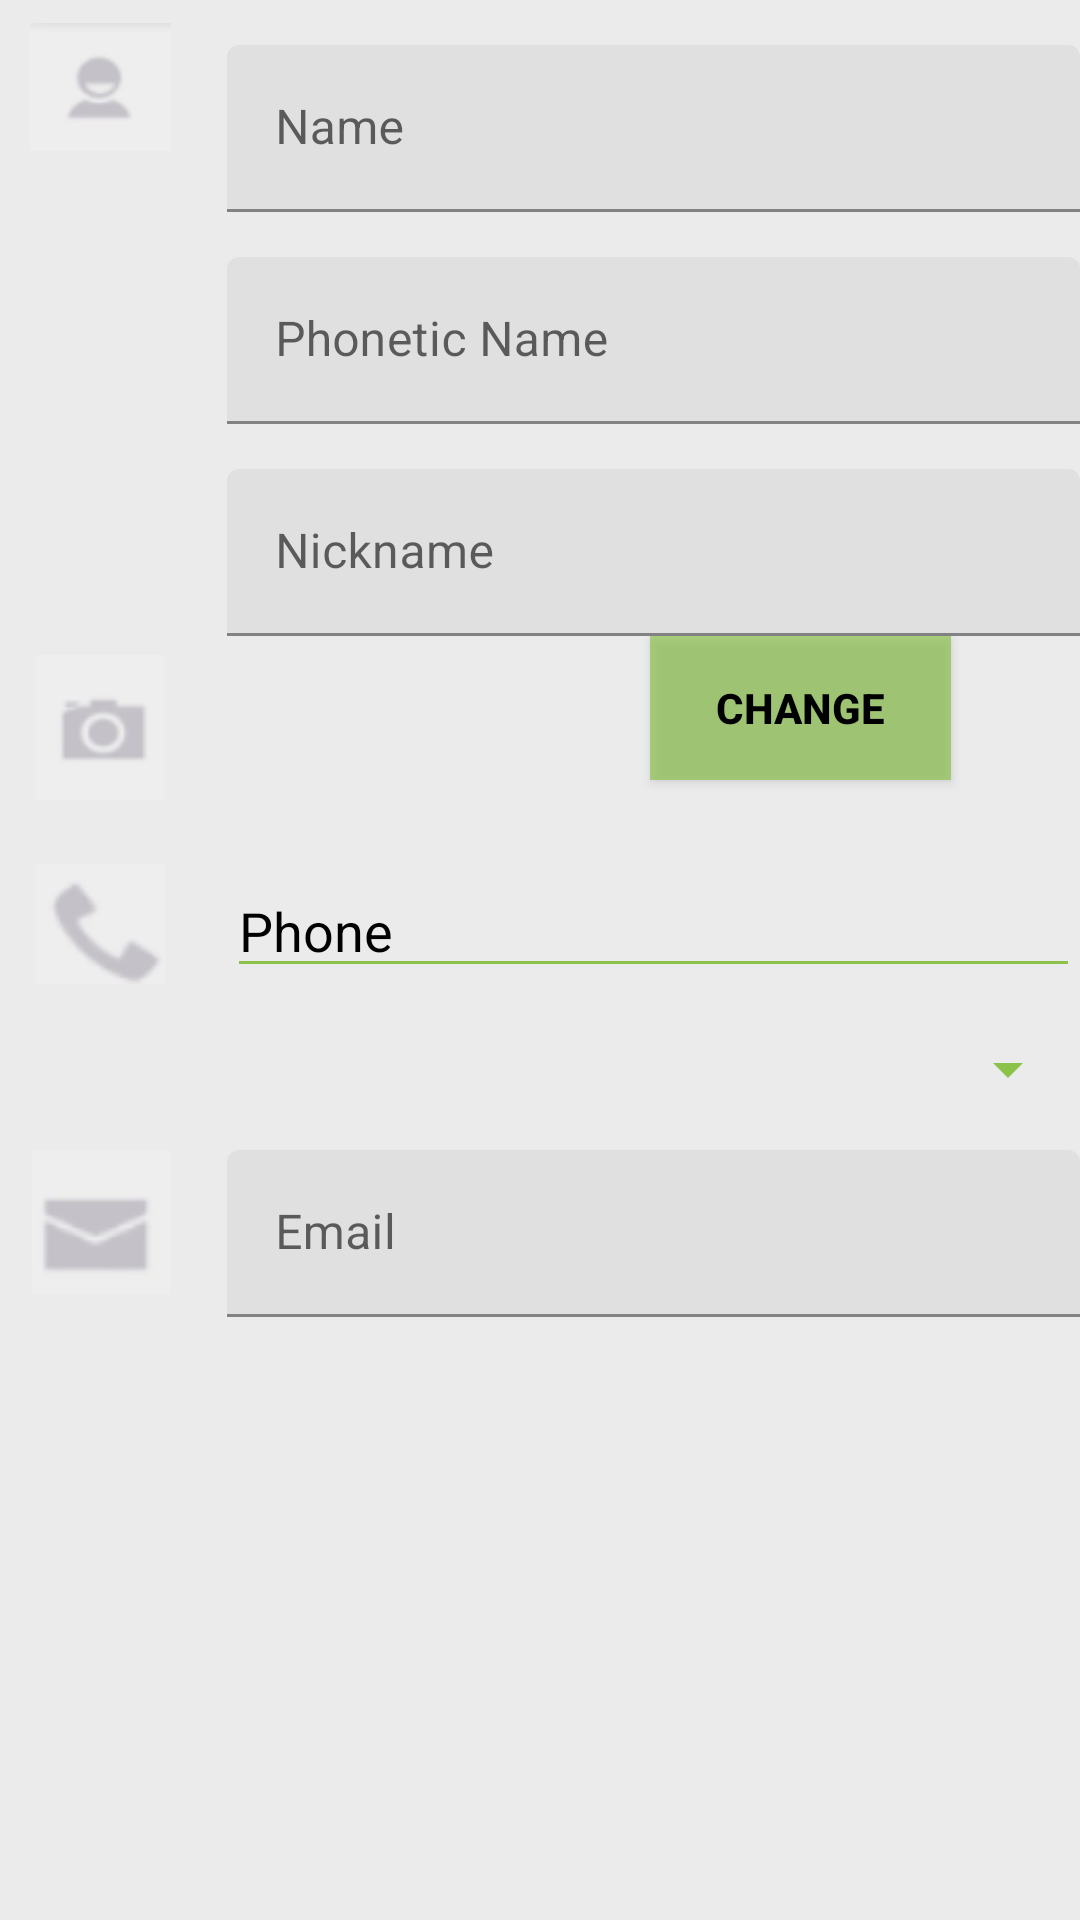

Screen size 1080×1920. Icon name, then its box in pixels as {"x1": x1, "y1": y1, "x2": x2, "y2": y2}:
usericon: {"x1": 70, "y1": 58, "x2": 128, "y2": 118}
